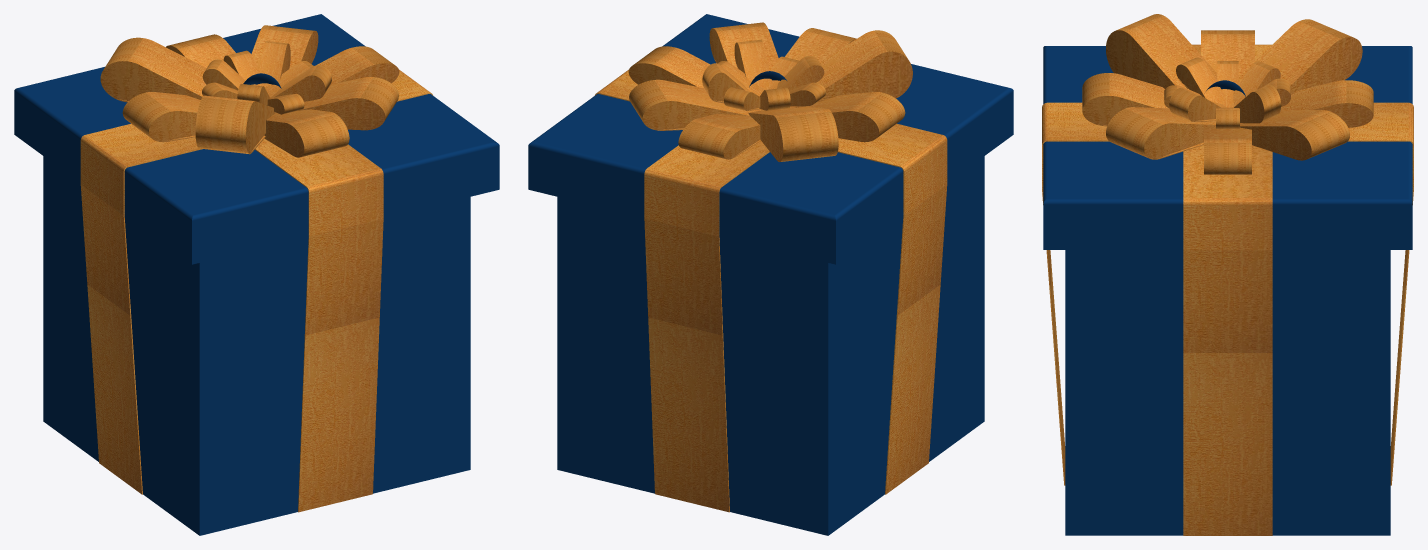
Rendered from regalo.obj.
The picture shows the model from 3 angles, left to right: view 1: azimuth 30°, elevation 25°; view 2: azimuth 150°, elevation 25°; view 3: azimuth 270°, elevation 25°; orthographic projection. The views are drawn at different scales.
Visible parts, largest first — view 1: Mesh1 Group2 Group1 Regalo1 Model, Mesh2 Group3 Group1 Regalo1 Model, Mesh23 Cinta4 Regalo1 Model, Mesh21 Cinta2 Regalo1 Model, Mesh10 Group11 Group4 Regalo1 Model, Mesh8 Group9 Group4 Regalo1 Model, Mesh3 Group5 Group4 Regalo1 Model, Mesh19 Group21 Group4 Regalo1 Model, Mesh7 Group8 Group4 Regalo1 Model, Mesh6 Group7 Group4 Regalo1 Model, Mesh5 Group6 Group4 Regalo1 Model, Mesh9 Group10 Group4 Regalo1 Model (+6 smaller); view 2: Mesh1 Group2 Group1 Regalo1 Model, Mesh2 Group3 Group1 Regalo1 Model, Mesh20 Cinta1 Regalo1 Model, Mesh21 Cinta2 Regalo1 Model, Mesh8 Group9 Group4 Regalo1 Model, Mesh10 Group11 Group4 Regalo1 Model, Mesh5 Group6 Group4 Regalo1 Model, Mesh7 Group8 Group4 Regalo1 Model, Mesh9 Group10 Group4 Regalo1 Model, Mesh6 Group7 Group4 Regalo1 Model, Mesh3 Group5 Group4 Regalo1 Model, Mesh19 Group21 Group4 Regalo1 Model (+7 smaller); view 3: Mesh1 Group2 Group1 Regalo1 Model, Mesh2 Group3 Group1 Regalo1 Model, Mesh22 Cinta3 Regalo1 Model, Mesh10 Group11 Group4 Regalo1 Model, Mesh8 Group9 Group4 Regalo1 Model, Mesh3 Group5 Group4 Regalo1 Model, Mesh5 Group6 Group4 Regalo1 Model, Mesh23 Cinta4 Regalo1 Model, Mesh20 Cinta1 Regalo1 Model, Mesh19 Group21 Group4 Regalo1 Model, Mesh9 Group10 Group4 Regalo1 Model, Mesh6 Group7 Group4 Regalo1 Model (+7 smaller).
Part boxes in pixels (x1,y1,x2,y2): Mesh1 Group2 Group1 Regalo1 Model: (43, 156, 470, 535); Mesh2 Group3 Group1 Regalo1 Model: (14, 14, 499, 264); Mesh23 Cinta4 Regalo1 Model: (255, 138, 383, 512); Mesh21 Cinta2 Regalo1 Model: (80, 123, 202, 494); Mesh10 Group11 Group4 Regalo1 Model: (100, 37, 206, 102); Mesh8 Group9 Group4 Regalo1 Model: (195, 95, 275, 154); Mesh3 Group5 Group4 Regalo1 Model: (298, 77, 398, 130); Mesh19 Group21 Group4 Regalo1 Model: (264, 109, 349, 157); Mesh7 Group8 Group4 Regalo1 Model: (122, 92, 200, 142); Mesh6 Group7 Group4 Regalo1 Model: (316, 46, 399, 84); Mesh5 Group6 Group4 Regalo1 Model: (251, 25, 318, 69); Mesh9 Group10 Group4 Regalo1 Model: (166, 34, 235, 67); Mesh1 Group2 Group1 Regalo1 Model: (557, 156, 984, 535); Mesh2 Group3 Group1 Regalo1 Model: (528, 14, 1013, 264); Mesh20 Cinta1 Regalo1 Model: (644, 141, 769, 512); Mesh21 Cinta2 Regalo1 Model: (838, 123, 947, 494); Mesh8 Group9 Group4 Regalo1 Model: (789, 30, 912, 108); Mesh10 Group11 Group4 Regalo1 Model: (748, 106, 838, 161); Mesh5 Group6 Group4 Regalo1 Model: (629, 79, 761, 130); Mesh7 Group8 Group4 Regalo1 Model: (806, 92, 905, 142); Mesh9 Group10 Group4 Regalo1 Model: (678, 113, 760, 159); Mesh6 Group7 Group4 Regalo1 Model: (628, 46, 710, 87); Mesh3 Group5 Group4 Regalo1 Model: (709, 22, 778, 70); Mesh19 Group21 Group4 Regalo1 Model: (785, 28, 856, 62); Mesh1 Group2 Group1 Regalo1 Model: (1065, 250, 1390, 535); Mesh2 Group3 Group1 Regalo1 Model: (1043, 46, 1412, 249); Mesh22 Cinta3 Regalo1 Model: (1183, 145, 1272, 535); Mesh10 Group11 Group4 Regalo1 Model: (1238, 19, 1362, 94); Mesh8 Group9 Group4 Regalo1 Model: (1106, 14, 1217, 88); Mesh3 Group5 Group4 Regalo1 Model: (1106, 107, 1215, 159); Mesh5 Group6 Group4 Regalo1 Model: (1240, 110, 1349, 160); Mesh23 Cinta4 Regalo1 Model: (1042, 102, 1109, 485); Mesh20 Cinta1 Regalo1 Model: (1348, 102, 1413, 485); Mesh19 Group21 Group4 Regalo1 Model: (1082, 73, 1168, 126); Mesh9 Group10 Group4 Regalo1 Model: (1281, 80, 1373, 127); Mesh6 Group7 Group4 Regalo1 Model: (1204, 127, 1251, 174).
Bounding box in the file's own units: 0.3428 × 0.4148 × 0.3428.
2 materials, 1 textured.
